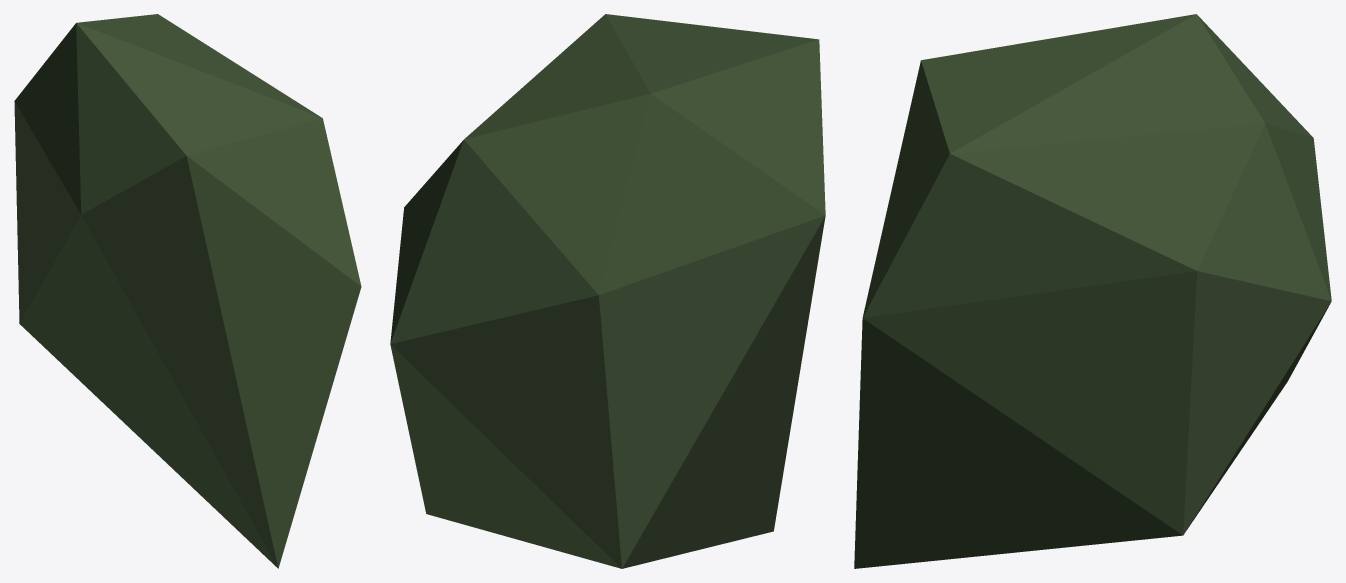
Rendered from Willow_3.lod4.glb.
The picture shows the model from 3 angles, left to right: view 1: azimuth 30°, elevation 25°; view 2: azimuth 150°, elevation 25°; view 3: azimuth 270°, elevation 25°; orthographic projection. The views are drawn at different scales.
Visible parts, largest first — view 1: Willow_3; view 2: Willow_3; view 3: Willow_3.
Part boxes in pixels (box(x1,y1,x2,y2)): Willow_3: box(14, 14, 361, 568); Willow_3: box(390, 14, 825, 568); Willow_3: box(854, 14, 1331, 568).
Bounding box in the file's own units: 1.4 × 2.42 × 2.
